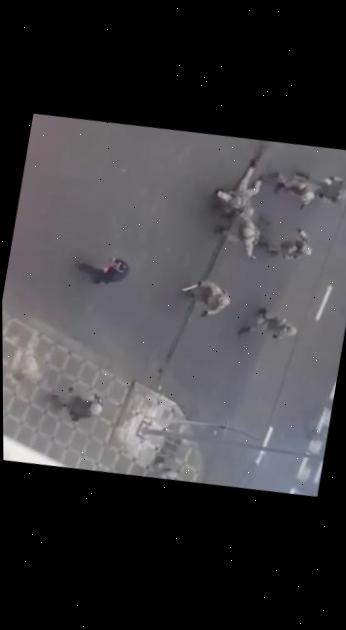person: (211, 149, 271, 222), (235, 299, 301, 348), (209, 207, 265, 263), (47, 379, 106, 428), (257, 220, 317, 266), (176, 275, 233, 322), (263, 164, 318, 212), (73, 248, 132, 291), (301, 168, 346, 209), (304, 423, 329, 449)
